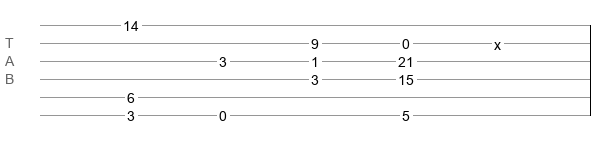0: (219, 108, 227, 118), (402, 36, 410, 46)
1: (311, 54, 319, 64)
14: (123, 18, 139, 28)
15: (398, 72, 414, 82)
21: (398, 54, 414, 64)
3: (127, 108, 135, 118), (219, 54, 227, 64), (311, 72, 319, 82)
5: (402, 108, 410, 118)
6: (127, 90, 135, 100)
9: (311, 36, 319, 46)
x: (494, 37, 501, 45)
